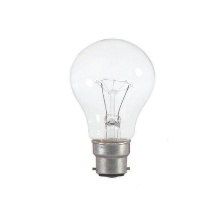light_bulb: (65, 32, 160, 187)
